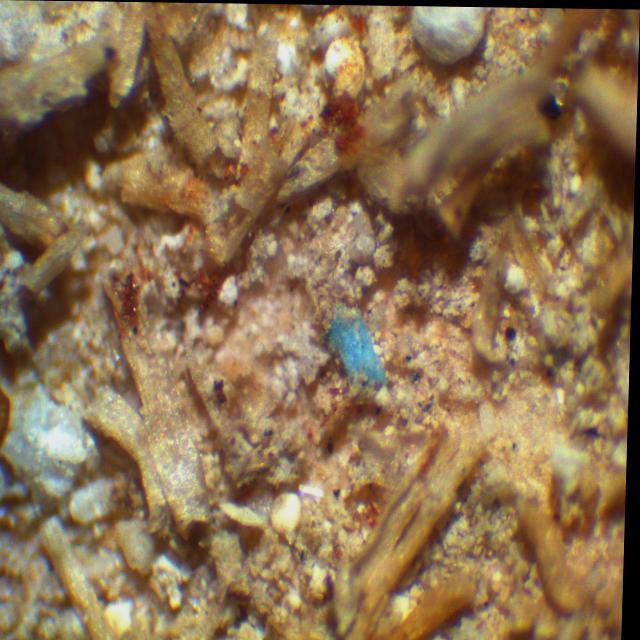microplastic: (323, 308, 388, 377)
